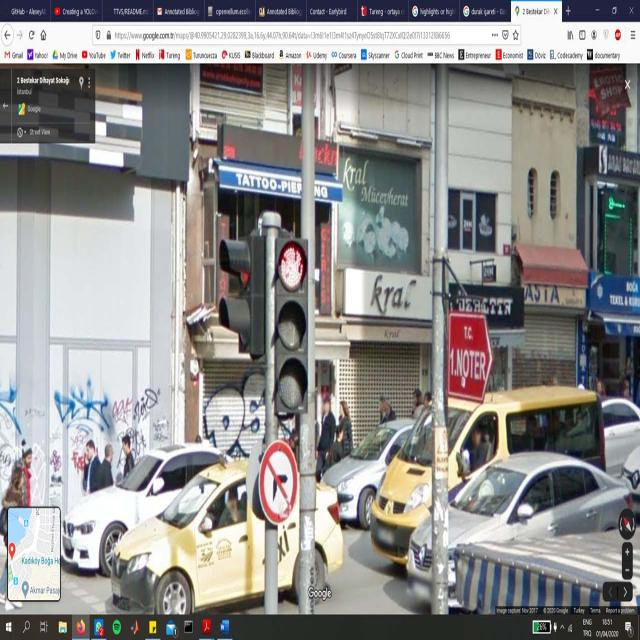kirmizi: (277, 240, 308, 404)
sagadonulmez: (260, 439, 296, 522)
